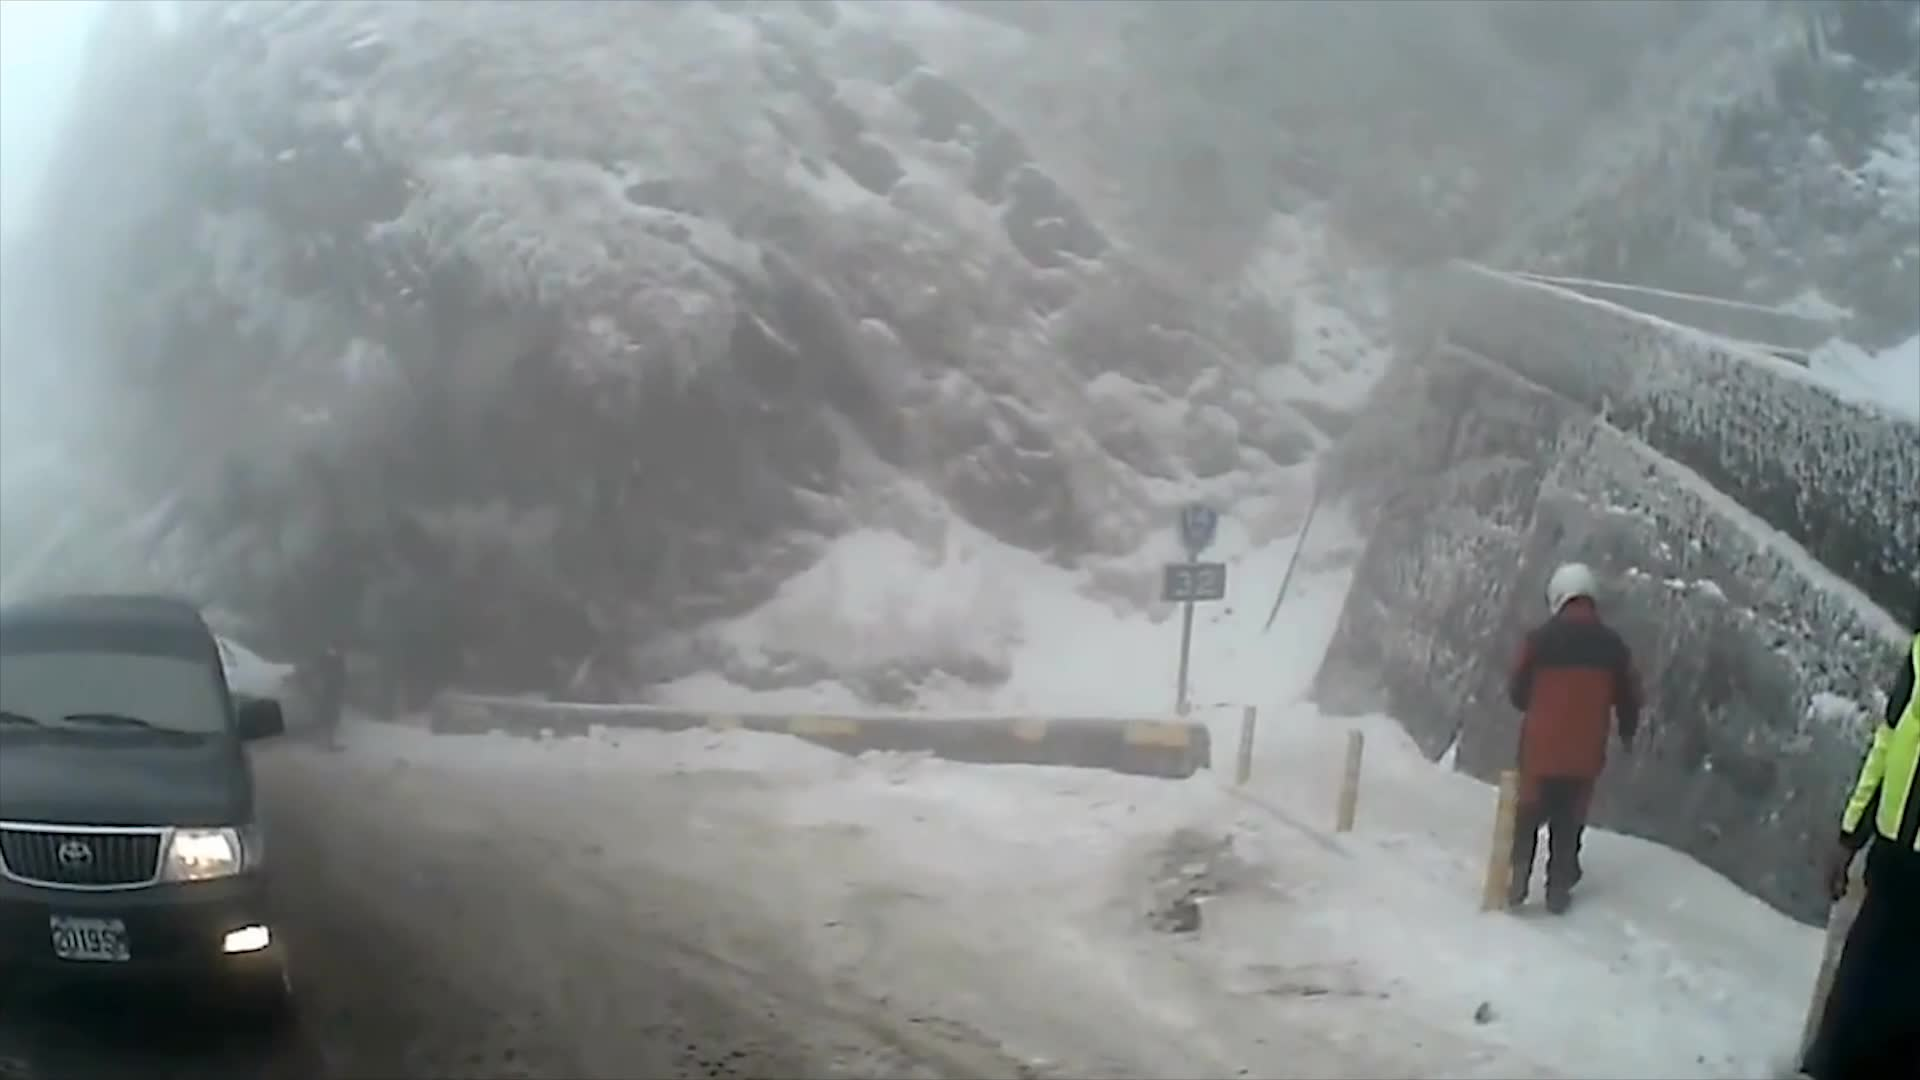pedestrian: (1779, 593, 1920, 1080), (1493, 563, 1638, 921)
vehicle: (0, 589, 292, 1033)
